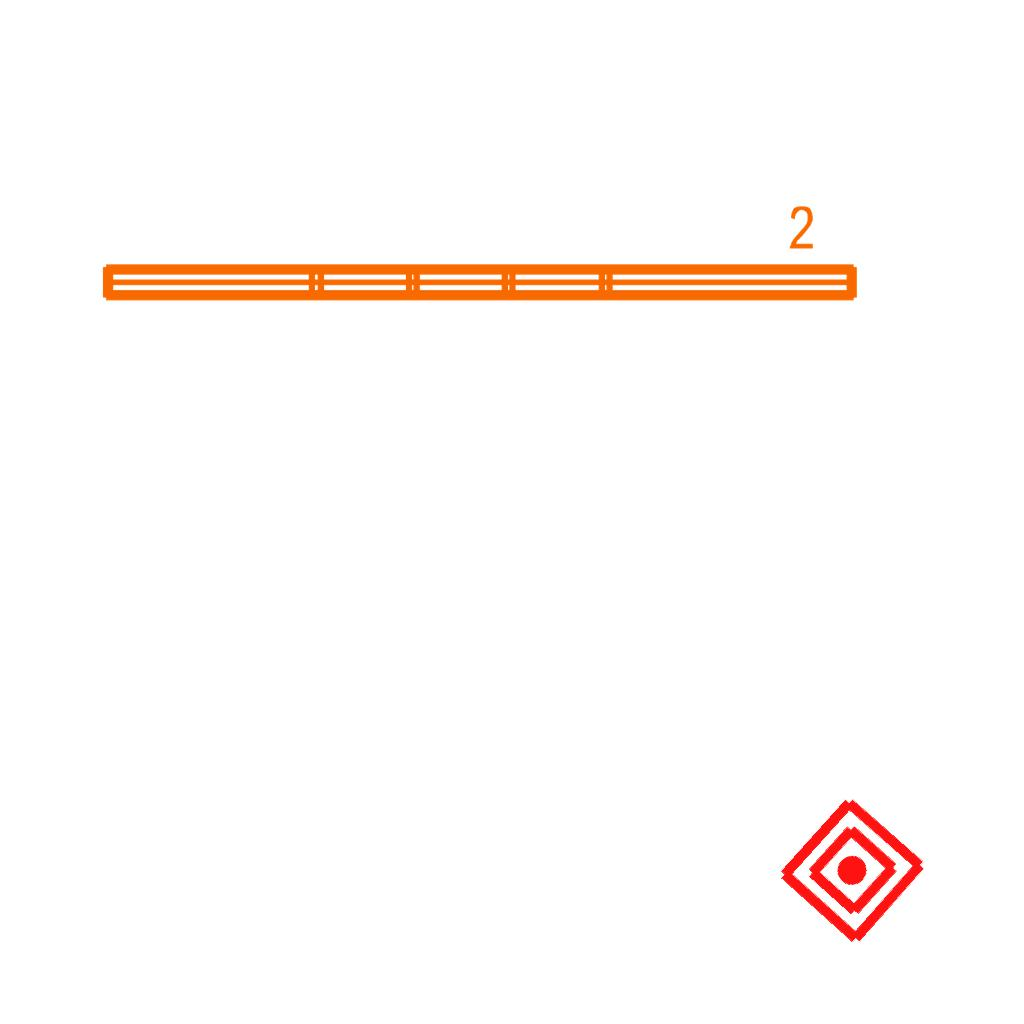Ambulanz_Pendelleuchte_LED: (92, 201, 866, 313)
NAM-Nichtautomatischer_Melder: (772, 790, 933, 951)
